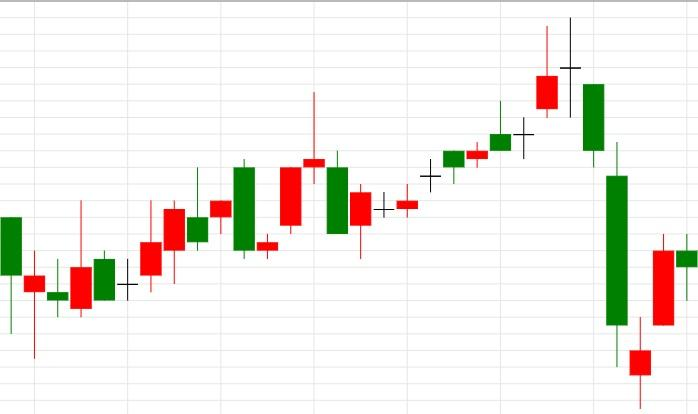bearish_engulfing_fall: (117, 159, 255, 301)
evening_star_fall: (396, 17, 605, 217)
